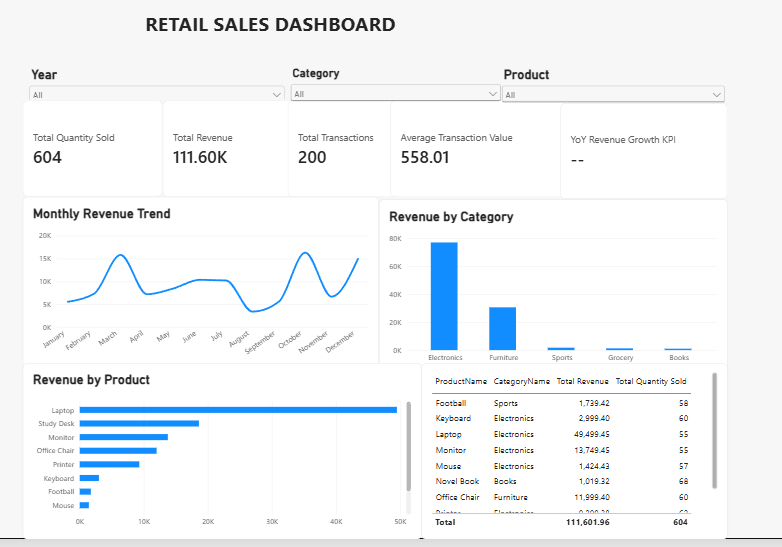

The dashboard page shown, as its layout file describes it:
{"tool":"powerbi","page":{"name":"Page 1","canvas":[1920,1080],"ordinal":0},"visuals":[{"type":"cardVisual","fields":{"Data":["Sales.Total Quantity Sold"]},"box":[244.9,358.1,230.5,158.5],"z":0},{"type":"cardVisual","fields":{"Data":["Sales.Total Revenue"]},"box":[475.5,358.1,300,159],"z":1},{"type":"cardVisual","fields":{"Data":["Sales.Total Transactions"]},"box":[681.3,358.1,300,159],"z":2},{"type":"cardVisual","fields":{"Data":["Sales.Average Transaction Value"]},"box":[850.1,358.1,300,159],"z":3},{"type":"slicer","fields":{"Values":["DateTable.Year"]},"box":[251.1,302.6,430.2,53.5],"z":6},{"type":"lineChart","title":"Monthly Revenue Trend","fields":{"Category":["DateTable.Month"],"Y":["Sales.Total Revenue"]},"box":[244.9,516.6,586.6,294.3],"z":7},{"type":"clusteredColumnChart","title":"Revenue by Category","fields":{"Category":["Categories.CategoryName"],"Y":["Sales.Total Revenue"]},"box":[831.6,520.8,574.3,290.2],"z":8},{"type":"clusteredBarChart","title":"Revenue by Product","fields":{"Category":["Products.ProductName"],"Y":["Sales.Total Revenue"]},"box":[244.9,790.4,656.6,290.2],"z":9},{"type":"tableEx","fields":{"Values":["Products.ProductName","Categories.CategoryName","Sales.Total Revenue","Sales.Total Quantity Sold"]},"box":[901.5,790.4,504.3,290.2],"z":10},{"type":"slicer","fields":{"Values":["Products.ProductName"]},"box":[1029.2,302.6,376.7,59.7],"z":11},{"type":"slicer","fields":{"Values":["Categories.CategoryName"]},"box":[681.3,302.6,356.1,92.6],"z":12},{"type":"textbox","box":[446.7,209.9,656.6,53.5],"z":13},{"type":"cardVisual","fields":{"Data":["DateTable.YoY Revenue Growth KPI"]},"box":[1130,362.3,275.8,158.5],"z":14}]}

Visuals, with their boxes on the page's 1920x1080 design canvas (x1, y1, x2, y2). These are canvas units, not pixel positions in the 782x547 screenshot, which may show the page scaled, cropped or inside an application window:
cardVisual - Sales.Total Quantity Sold: l=245, t=358, r=475, b=517
cardVisual - Sales.Total Revenue: l=476, t=358, r=776, b=517
cardVisual - Sales.Total Transactions: l=681, t=358, r=981, b=517
cardVisual - Sales.Average Transaction Value: l=850, t=358, r=1150, b=517
slicer - DateTable.Year: l=251, t=303, r=681, b=356
"Monthly Revenue Trend" lineChart: l=245, t=517, r=832, b=811
"Revenue by Category" clusteredColumnChart: l=832, t=521, r=1406, b=811
"Revenue by Product" clusteredBarChart: l=245, t=790, r=902, b=1081
tableEx - Products.ProductName x Categories.CategoryName: l=902, t=790, r=1406, b=1081
slicer - Products.ProductName: l=1029, t=303, r=1406, b=362
slicer - Categories.CategoryName: l=681, t=303, r=1037, b=395
textbox: l=447, t=210, r=1103, b=263
cardVisual - DateTable.YoY Revenue Growth KPI: l=1130, t=362, r=1406, b=521
